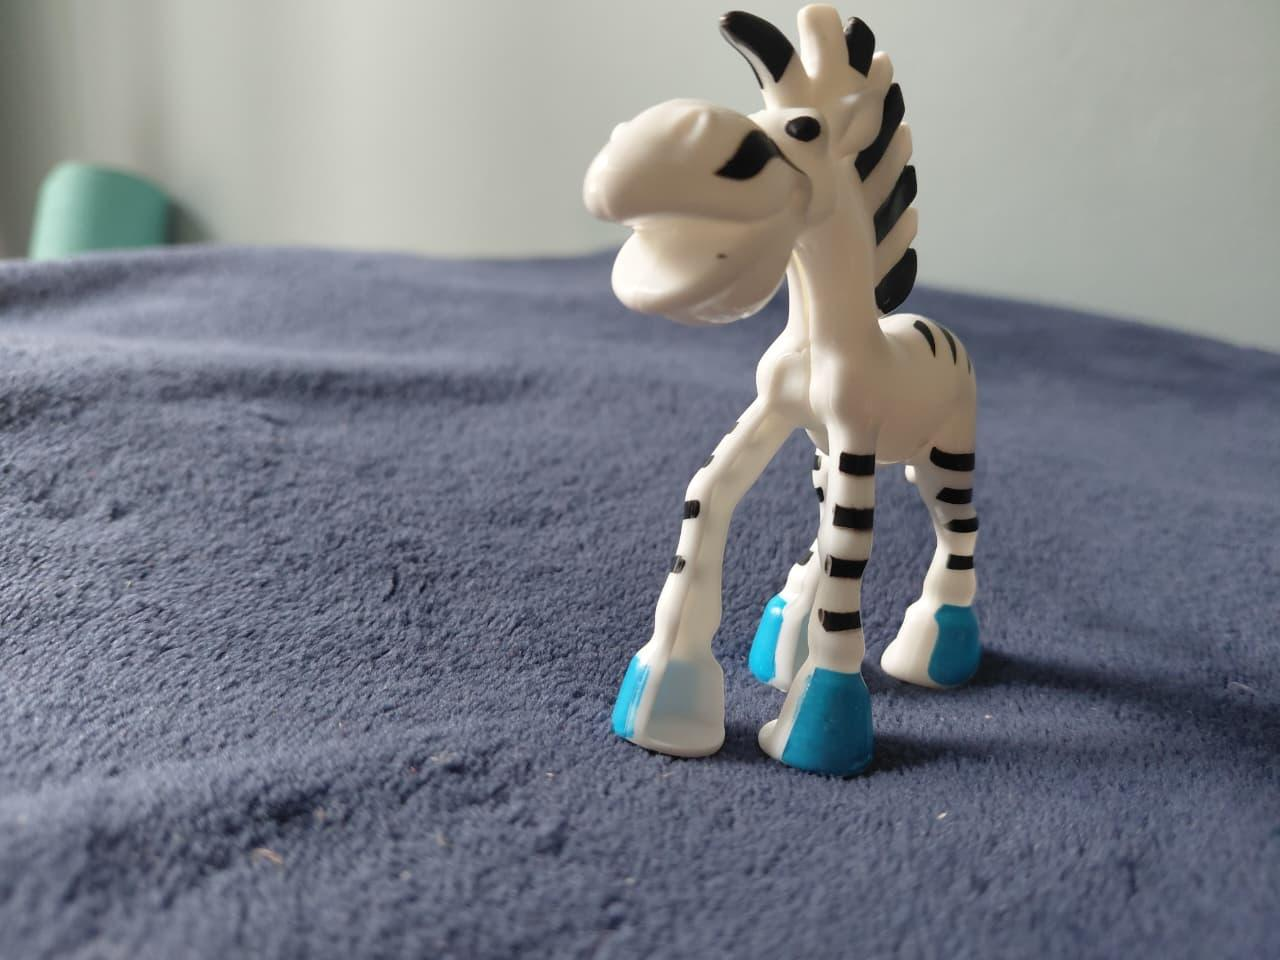zebra: (574, 8, 1019, 778)
